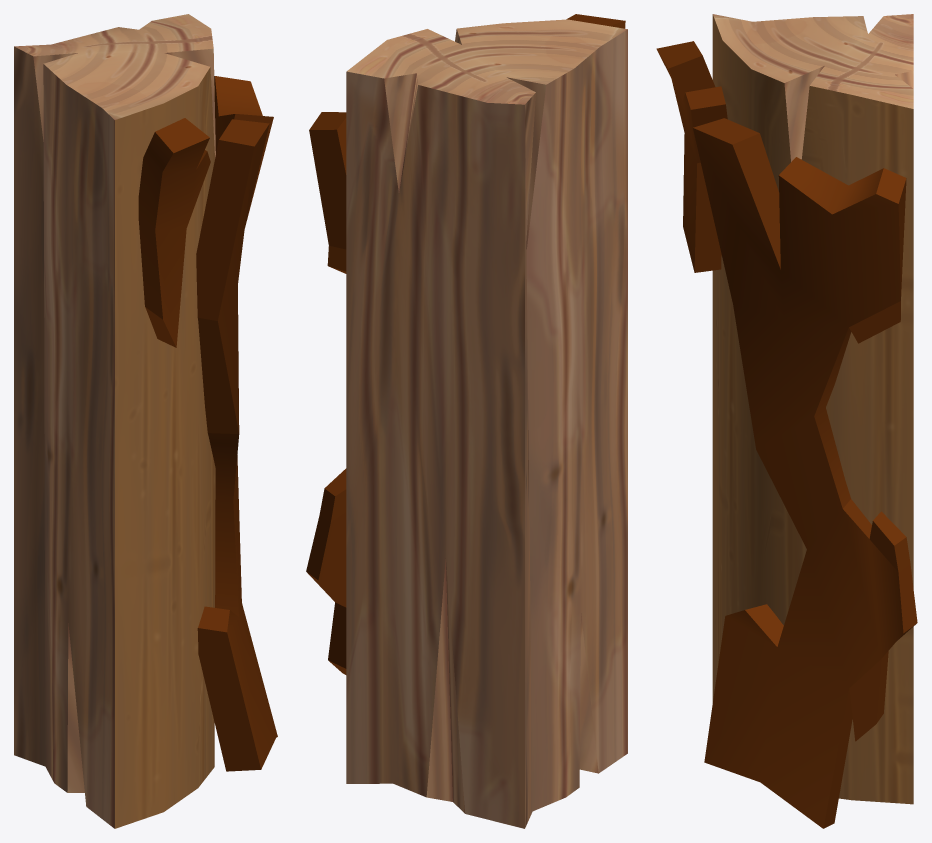
Rendered from obj_harvest_log_l02b.fbx.
3 renders of one model, left to right at view 1: azimuth 30°, elevation 25°; view 2: azimuth 150°, elevation 25°; view 3: azimuth 270°, elevation 25°, orthographic. The views are drawn at different scales.
Visible parts, largest first — view 1: obj_harvest_log_l02b; view 2: obj_harvest_log_l02b; view 3: obj_harvest_log_l02b.
Part boxes in pixels (x1,y1,x2,y2): obj_harvest_log_l02b: (14, 14, 277, 828); obj_harvest_log_l02b: (306, 14, 627, 828); obj_harvest_log_l02b: (656, 14, 917, 828).
Size of the model in its own units: 2.58 by 8.06 by 2.66.
